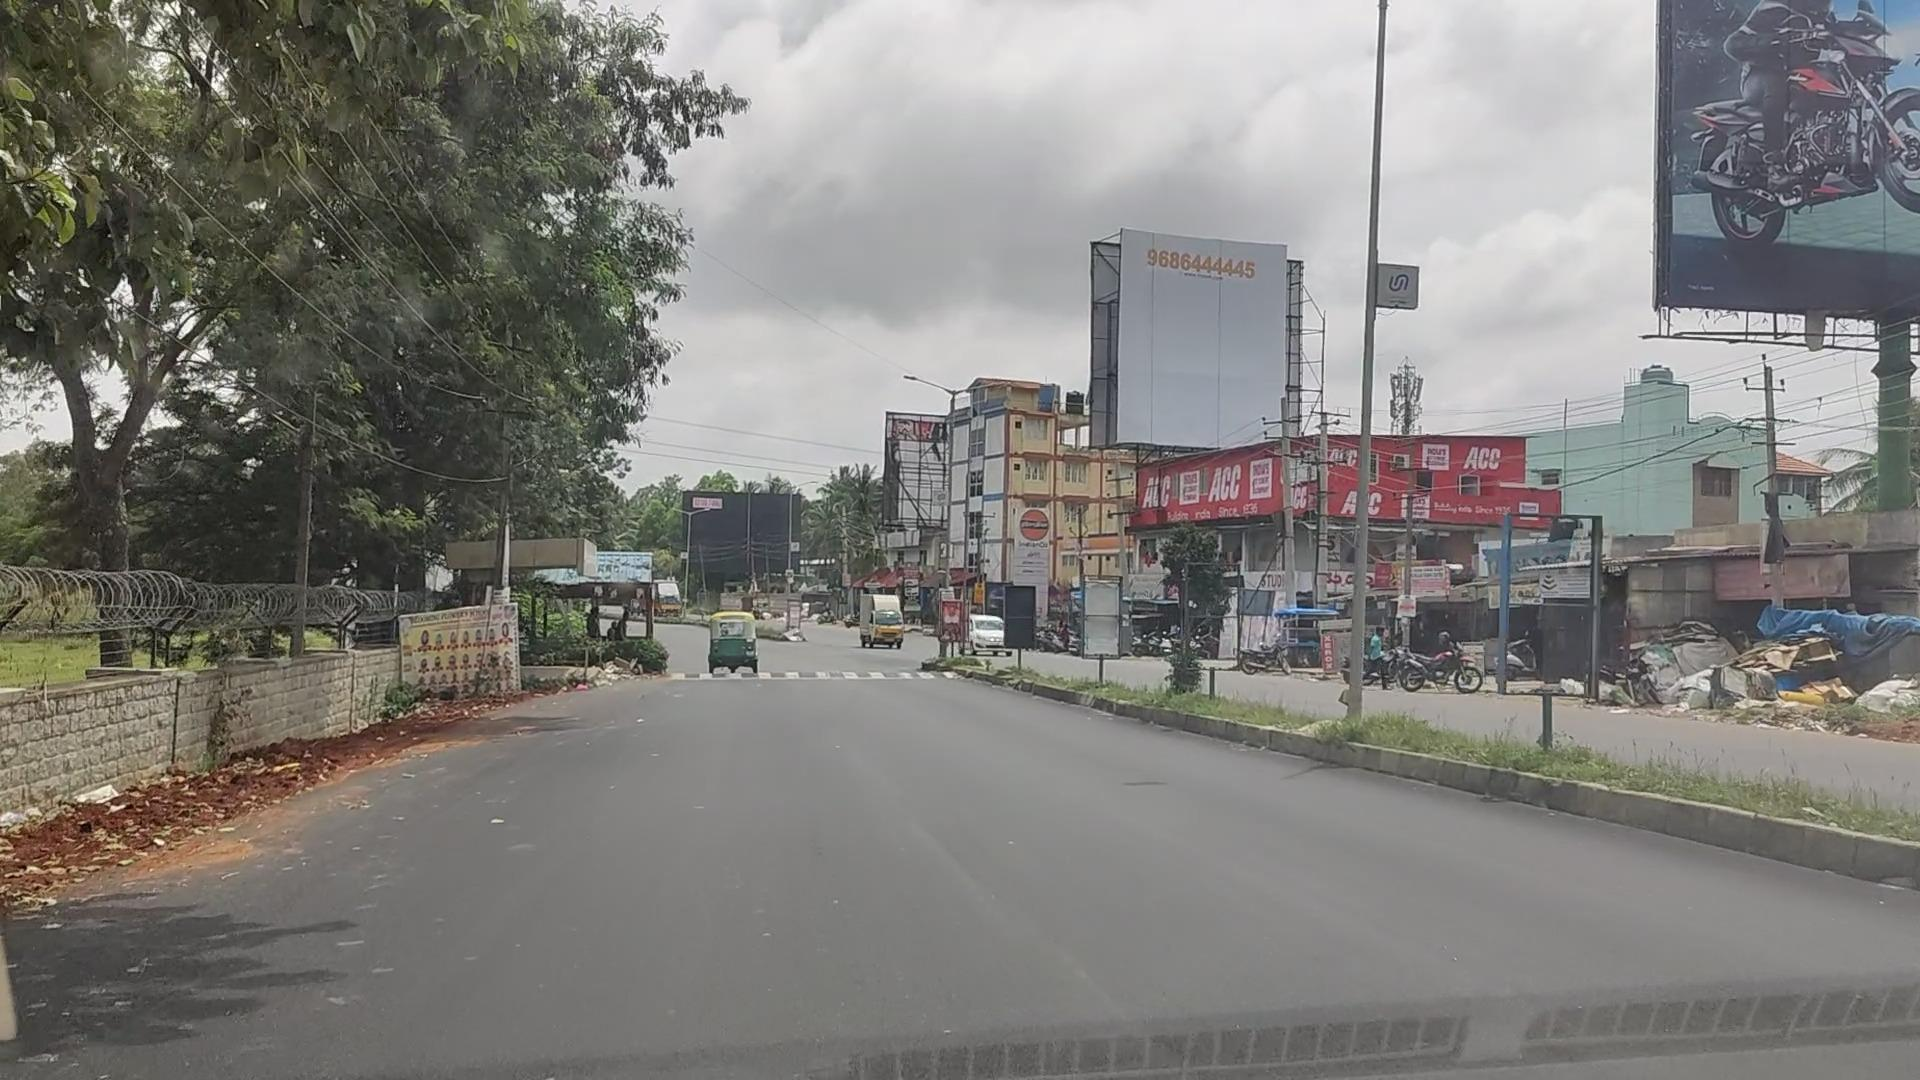LMV: (711, 611, 754, 661)
SpeedBump: (676, 665, 931, 687)
